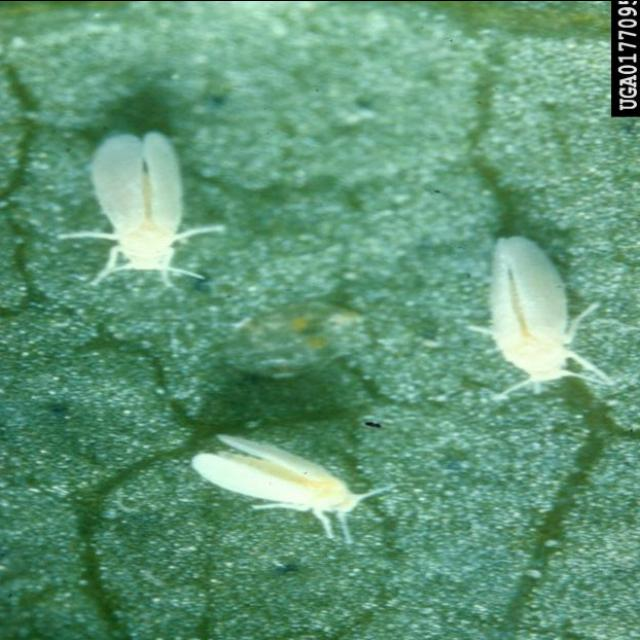Whitefly: (41, 120, 235, 293), (433, 230, 625, 403), (171, 423, 415, 557)
